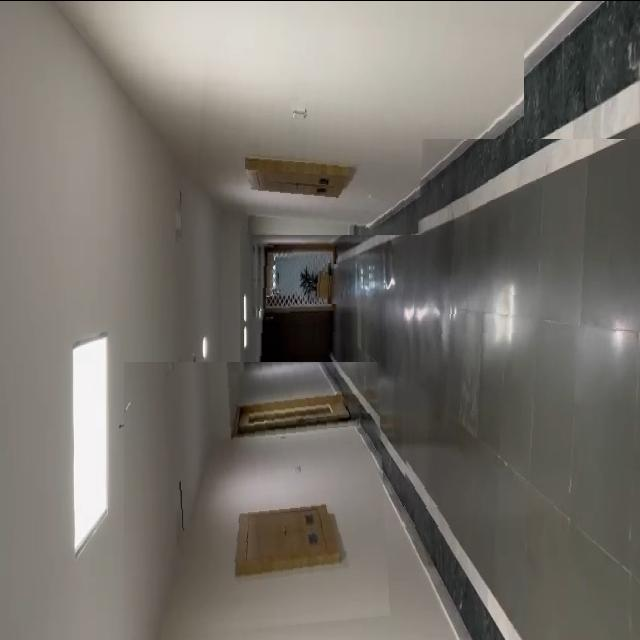door: (252, 244, 338, 389)
floor: (402, 138, 640, 536)
furniture: (296, 259, 338, 303)
wall: (192, 0, 524, 234), (124, 361, 390, 640)
